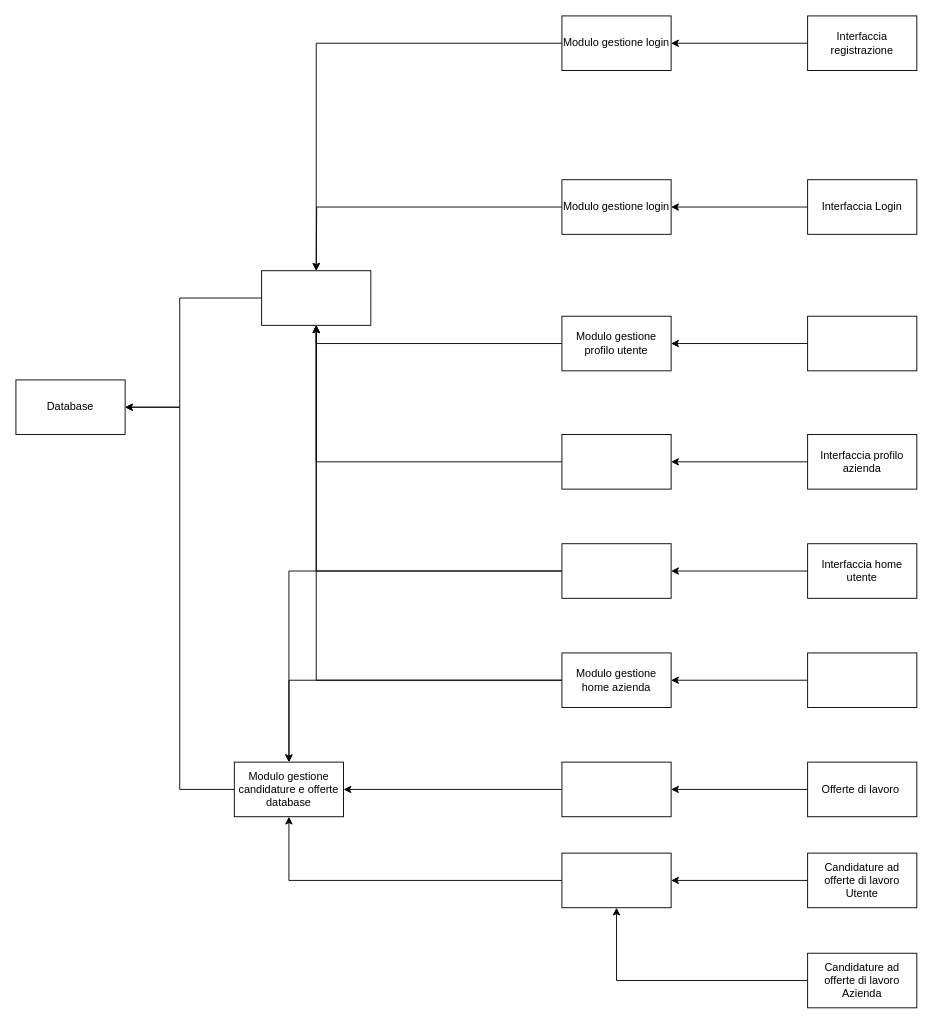
This 933x1024 diagram has some shape labels left out. The centre of each missing label's shape, as x and y in pixels:
"Interfaccia home azienda" belongs at (x=862, y=680).
"Interfaccia profilo utente" belongs at (x=862, y=343).
"Modulo gestione candidature ad offerte di lavoro" belongs at (x=616, y=880).
"Modulo gestione dati utente database" belongs at (x=316, y=297).
"Modulo gestione home utente" belongs at (x=616, y=570).
"Modulo gestione offerte di lavoro" belongs at (x=616, y=789).
"Modulo gestione profilo azienda" belongs at (x=616, y=461).
